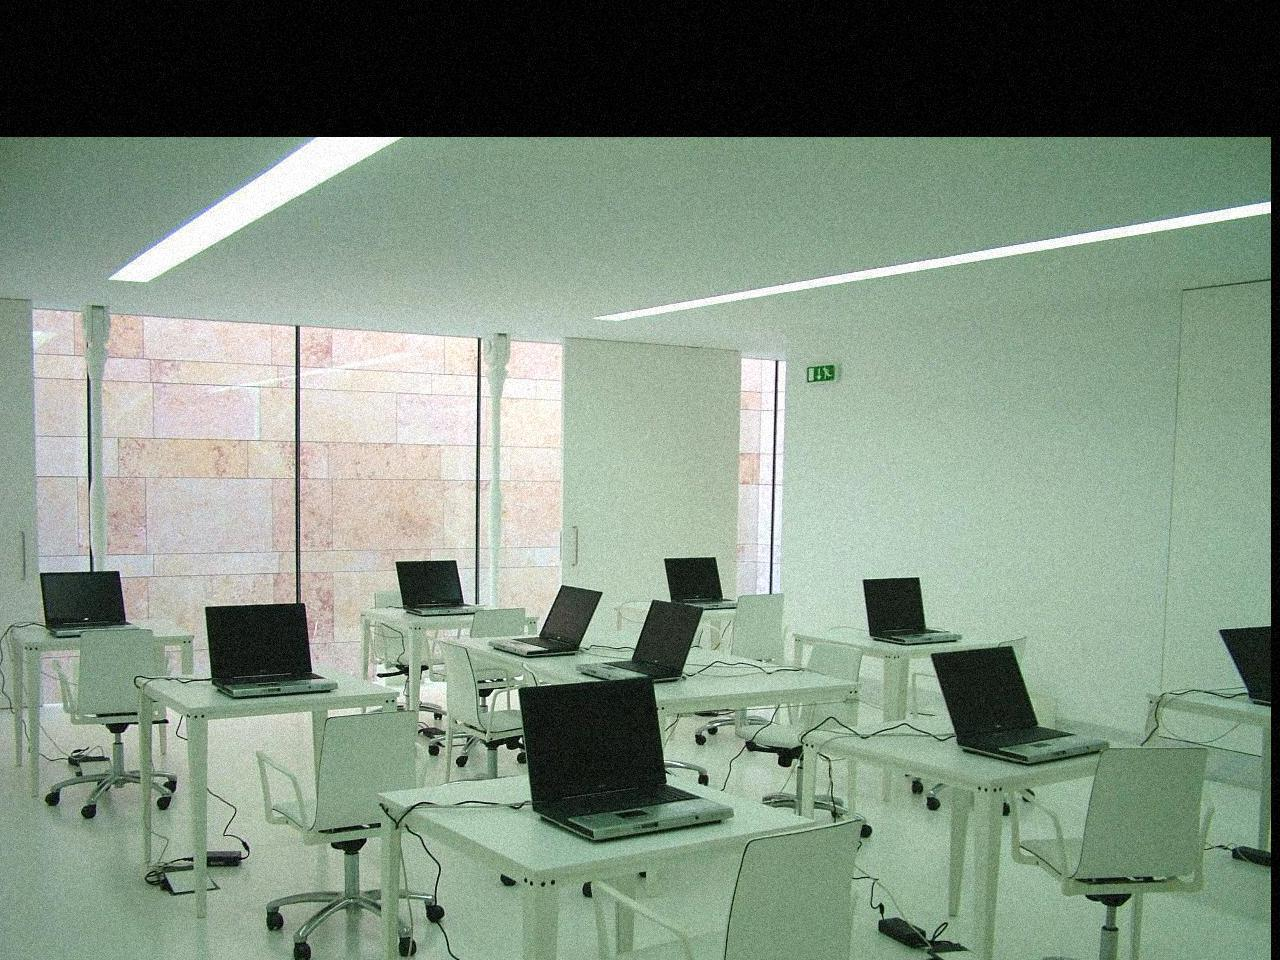Puerta: (1155, 271, 1262, 721), (565, 346, 734, 605)
